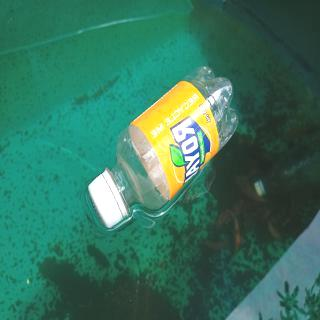bottle: (86, 62, 239, 230)
